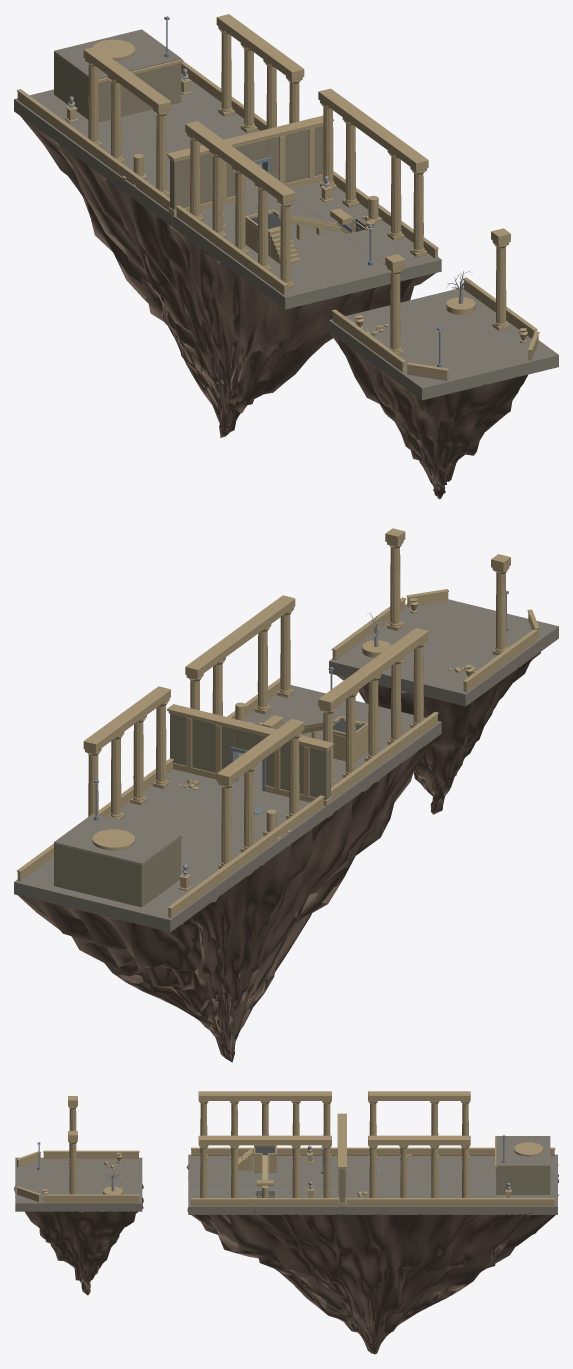
File: e_colonnade.glb
The picture shows the model from 3 angles, top to bottom: view 1: azimuth 30°, elevation 25°; view 2: azimuth 150°, elevation 25°; view 3: azimuth 270°, elevation 25°; orthographic projection. The views are drawn at different scales.
Parts seen in each view (by area): view 1: island_e_colonnade, chunk_south; view 2: island_e_colonnade, chunk_south; view 3: island_e_colonnade, chunk_south.
Part boxes in pixels (box(x1,y1,x2,y2)): island_e_colonnade: box(14, 14, 441, 437); chunk_south: box(329, 228, 558, 499); island_e_colonnade: box(14, 595, 441, 1062); chunk_south: box(329, 528, 558, 814); island_e_colonnade: box(186, 1091, 558, 1354); chunk_south: box(14, 1096, 143, 1295).
Bounding box in the file's own units: 16.47 × 34.53 × 70.8.
